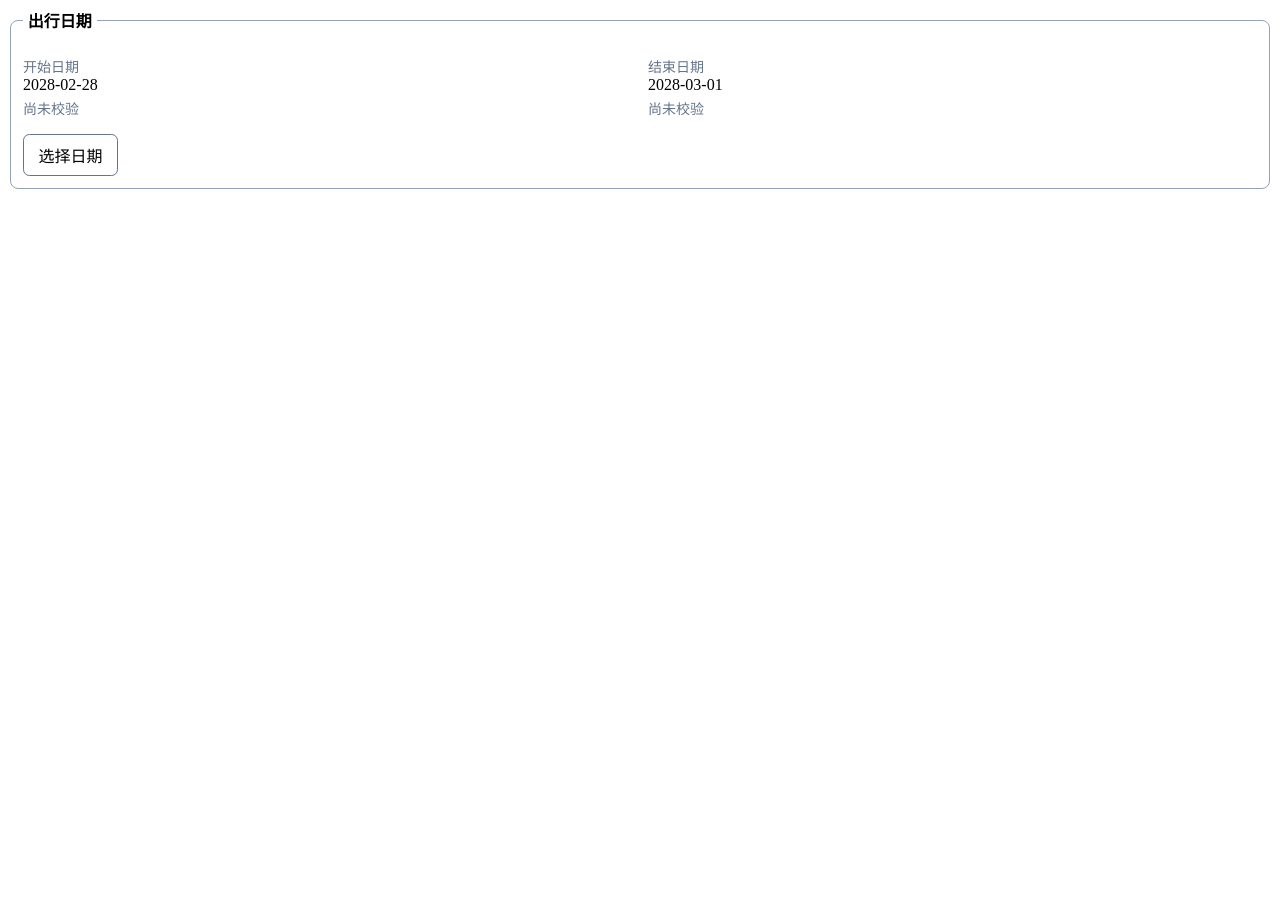
disables out-of-range days and keeps confirmation in the outer dialog
The width and height of the screenshot is (1280, 900).
Later steps or results of the test are not shown.
Step 1. Click the button "选择日期" → coordinates (70, 155), box left=23, top=134, right=118, bottom=176
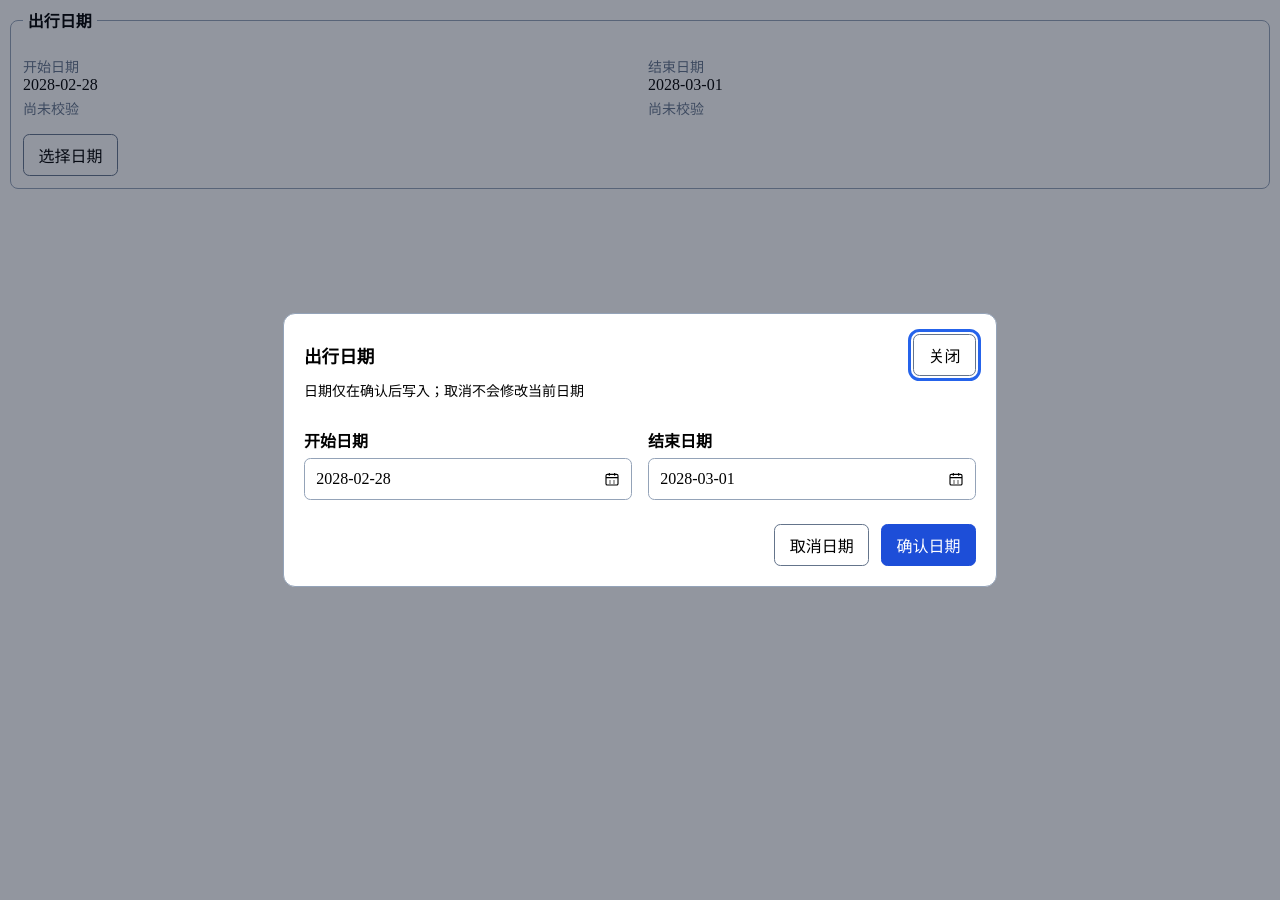
Step 2. Click the button "2028-02-28" → coordinates (354, 479), box left=304, top=458, right=632, bottom=500
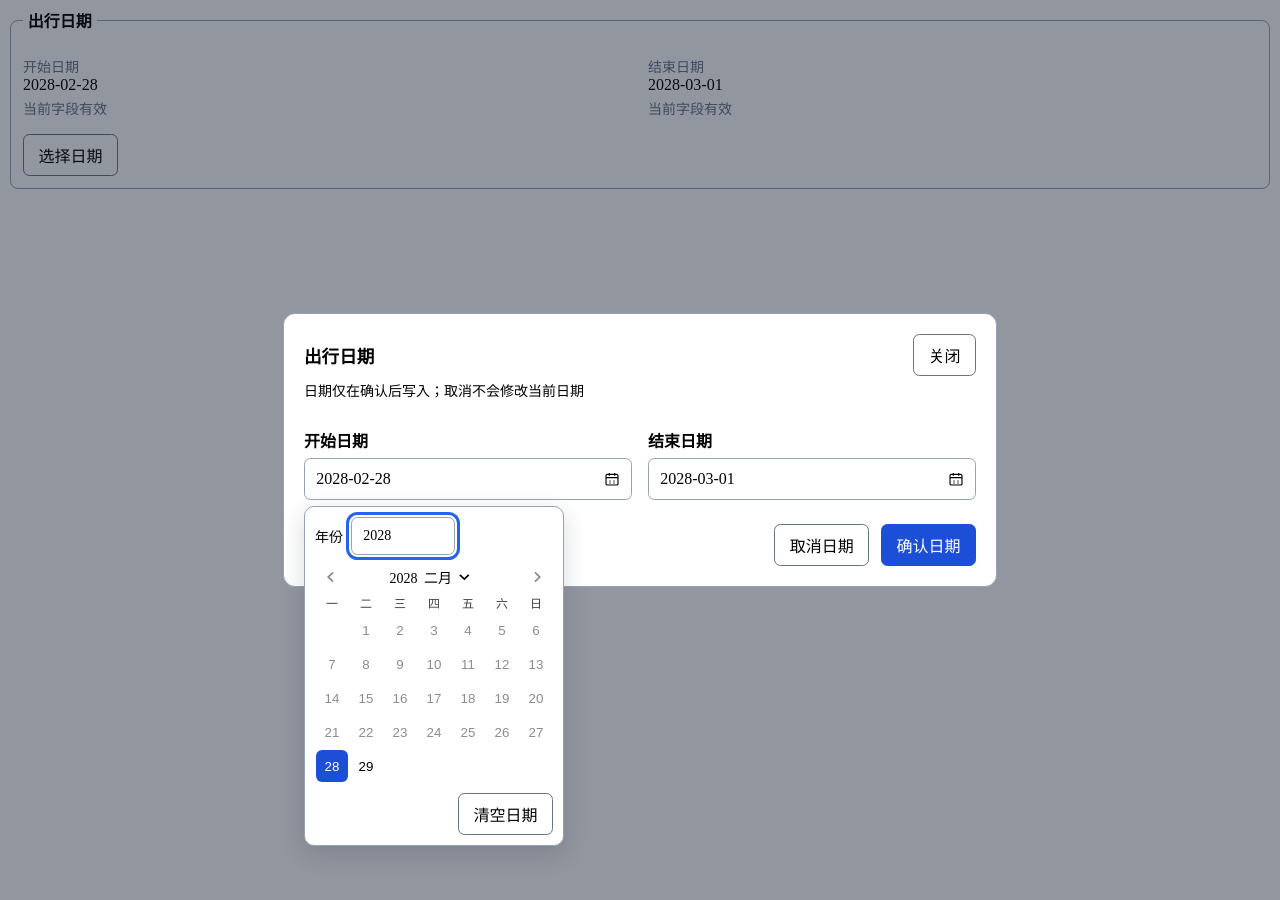
Expected: the button "27" is disabled, left=520, top=716, right=552, bottom=748
